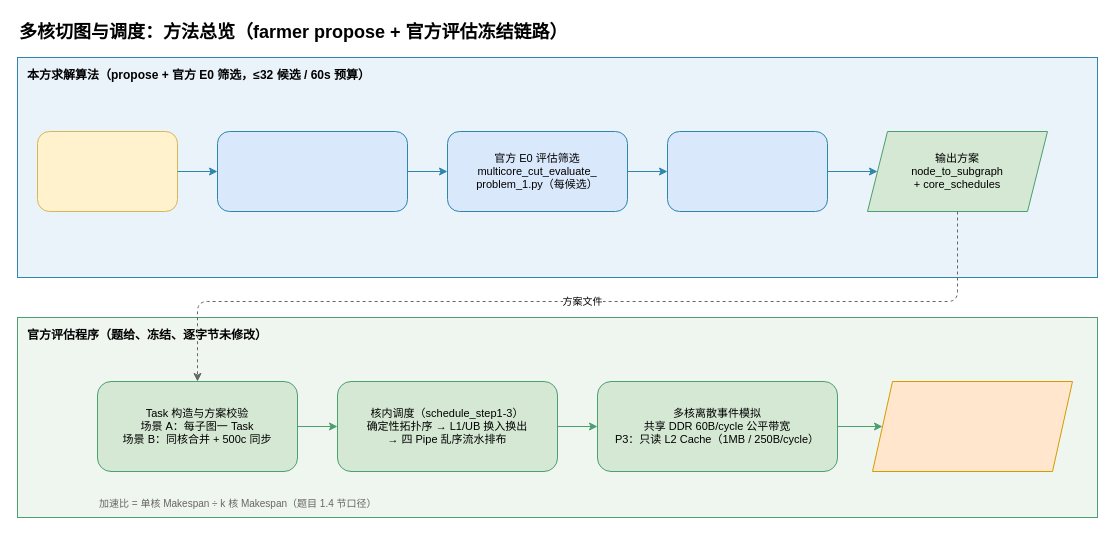
Image size: 1115x535. Some labels were removed from this diagram. Here are the shapes that lost their labels. From the top down, the centre of each, then its label:
At point (107, 171): "输入 计算图 JSON （ops / tensors / edges）".
At point (312, 171): "候选切图生成 结构划分 / 链划分 / 固定块 融合种子 + move / swap / split 邻域".
At point (747, 171): "incumbent 最优切图 （Makespan 最小候选）".
At point (972, 426): "指标输出 Makespan（cycles）/ 额外 DDR 搬运 / Cache 命中率".
